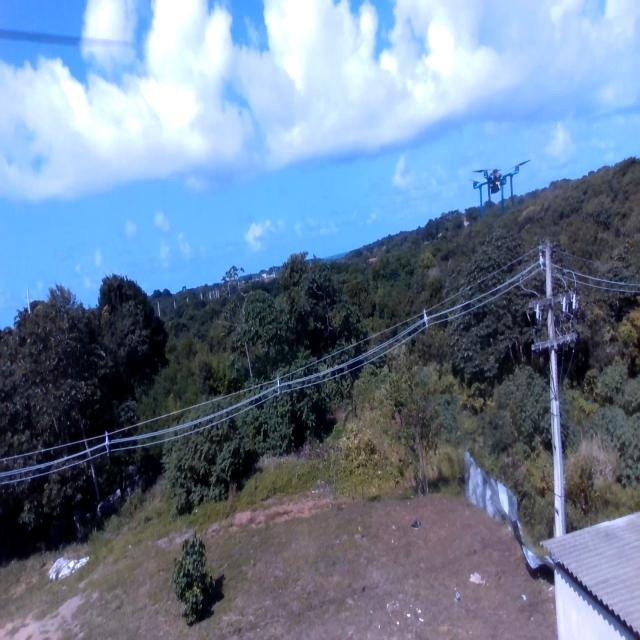-uav-: (464, 141, 538, 228)
